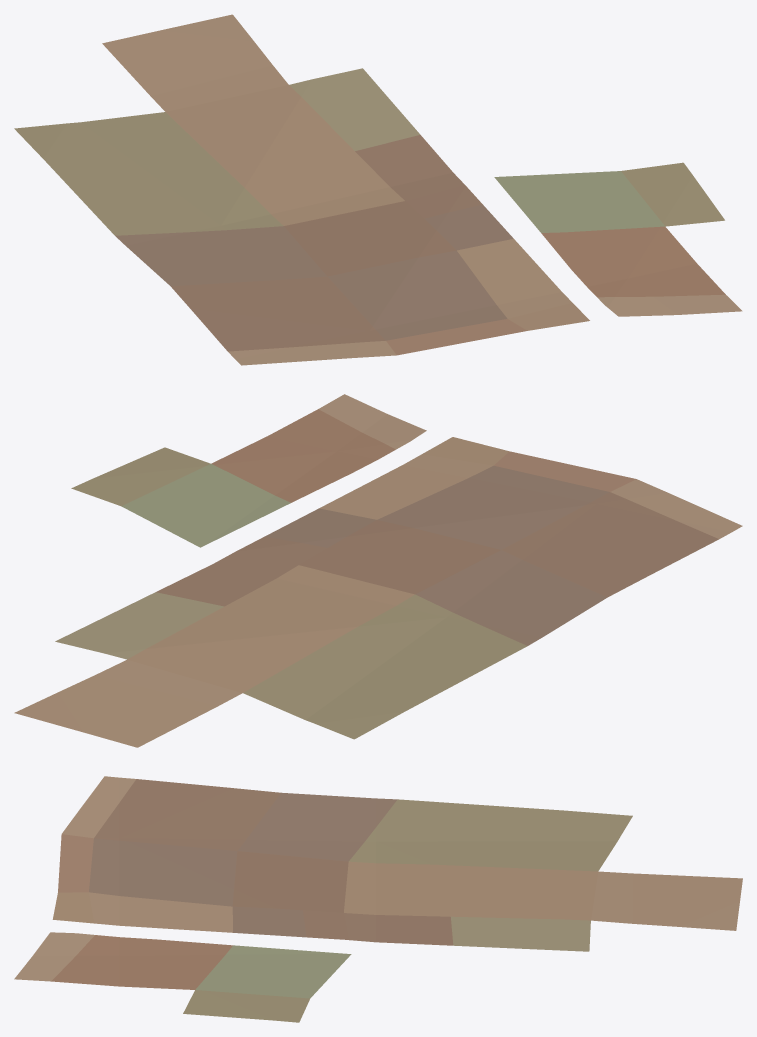
File: farm_13_23_soil.glb
3 views of the same model, one above another, from view 1: azimuth 30°, elevation 25°; view 2: azimuth 150°, elevation 25°; view 3: azimuth 270°, elevation 25° (orthographic). The views are drawn at different scales.
Parts seen in each view (by area): view 1: geometry_0; view 2: geometry_0; view 3: geometry_0.
Boxes of the visible parts, x1=… form: geometry_0: x1=14, y1=14, x2=742, y2=365; geometry_0: x1=14, y1=394, x2=742, y2=747; geometry_0: x1=14, y1=776, x2=742, y2=1022.
Size of the model in its own units: 172 by 5.24 by 227.
